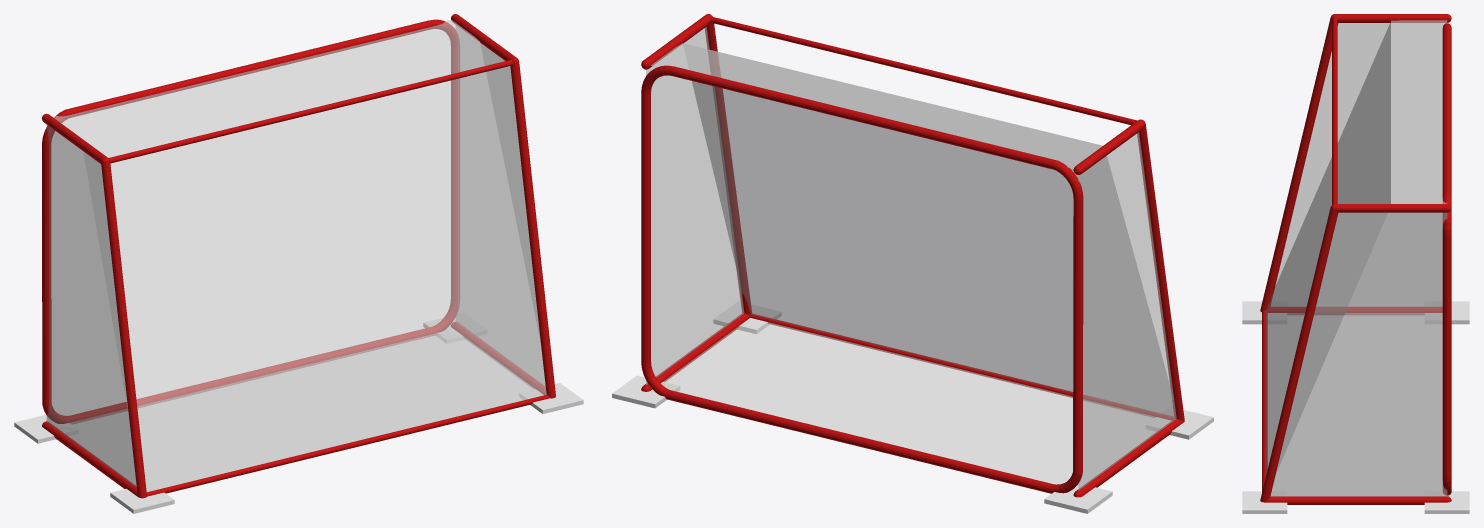
Rendered from floorball_goal.obj.
The picture shows the model from 3 angles, left to right: view 1: azimuth 30°, elevation 25°; view 2: azimuth 150°, elevation 25°; view 3: azimuth 270°, elevation 25°; orthographic projection. The views are drawn at different scales.
Size of the model in its own units: 1760 by 1182 by 810.
